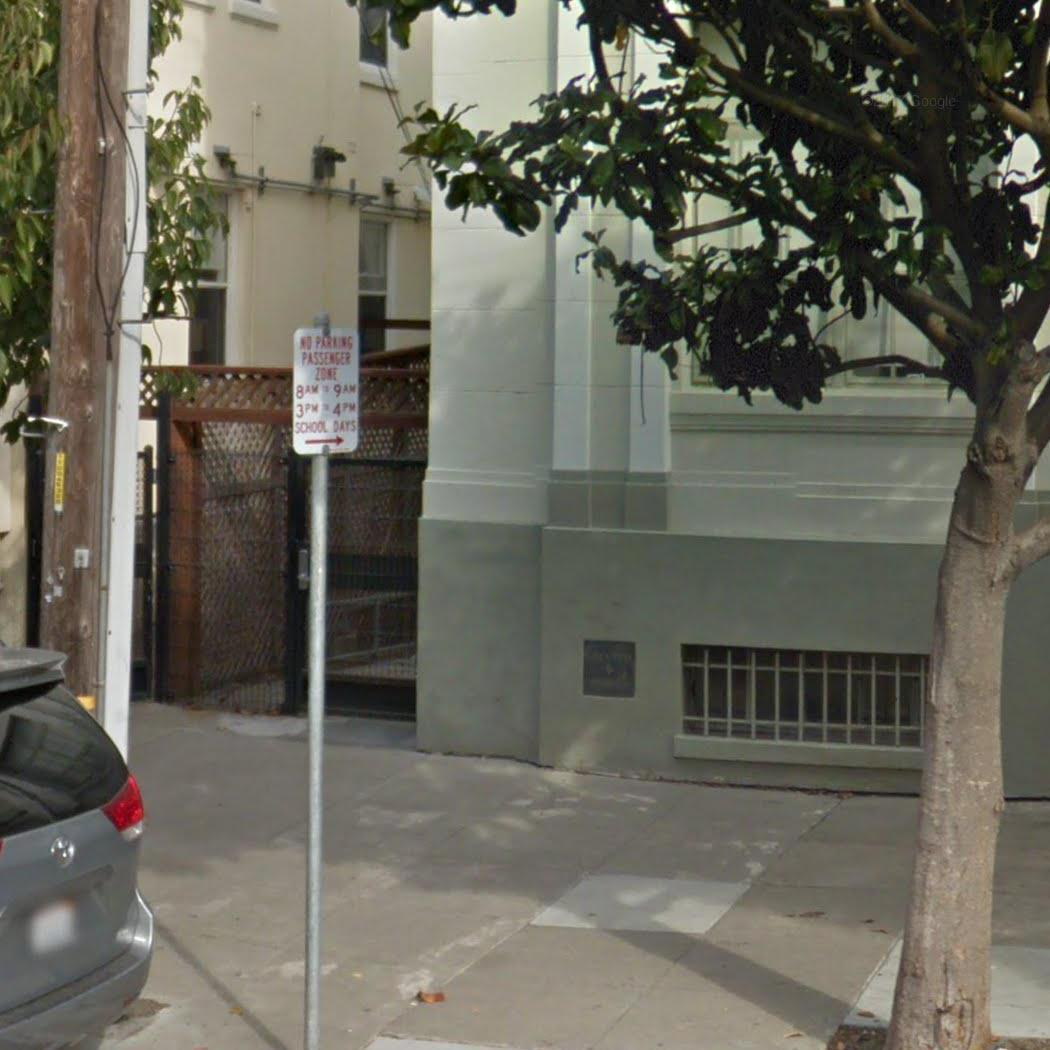No Parking: (291, 328, 359, 455)
